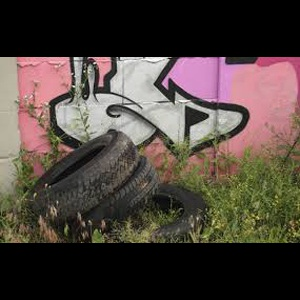tire: (29, 131, 139, 236), (65, 155, 158, 243), (74, 182, 206, 242)
